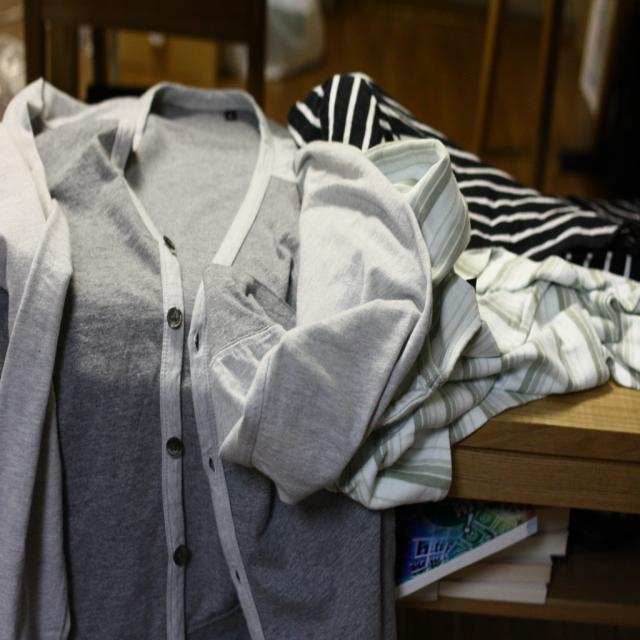chair: (25, 0, 266, 111)
desk: (446, 390, 640, 640)
